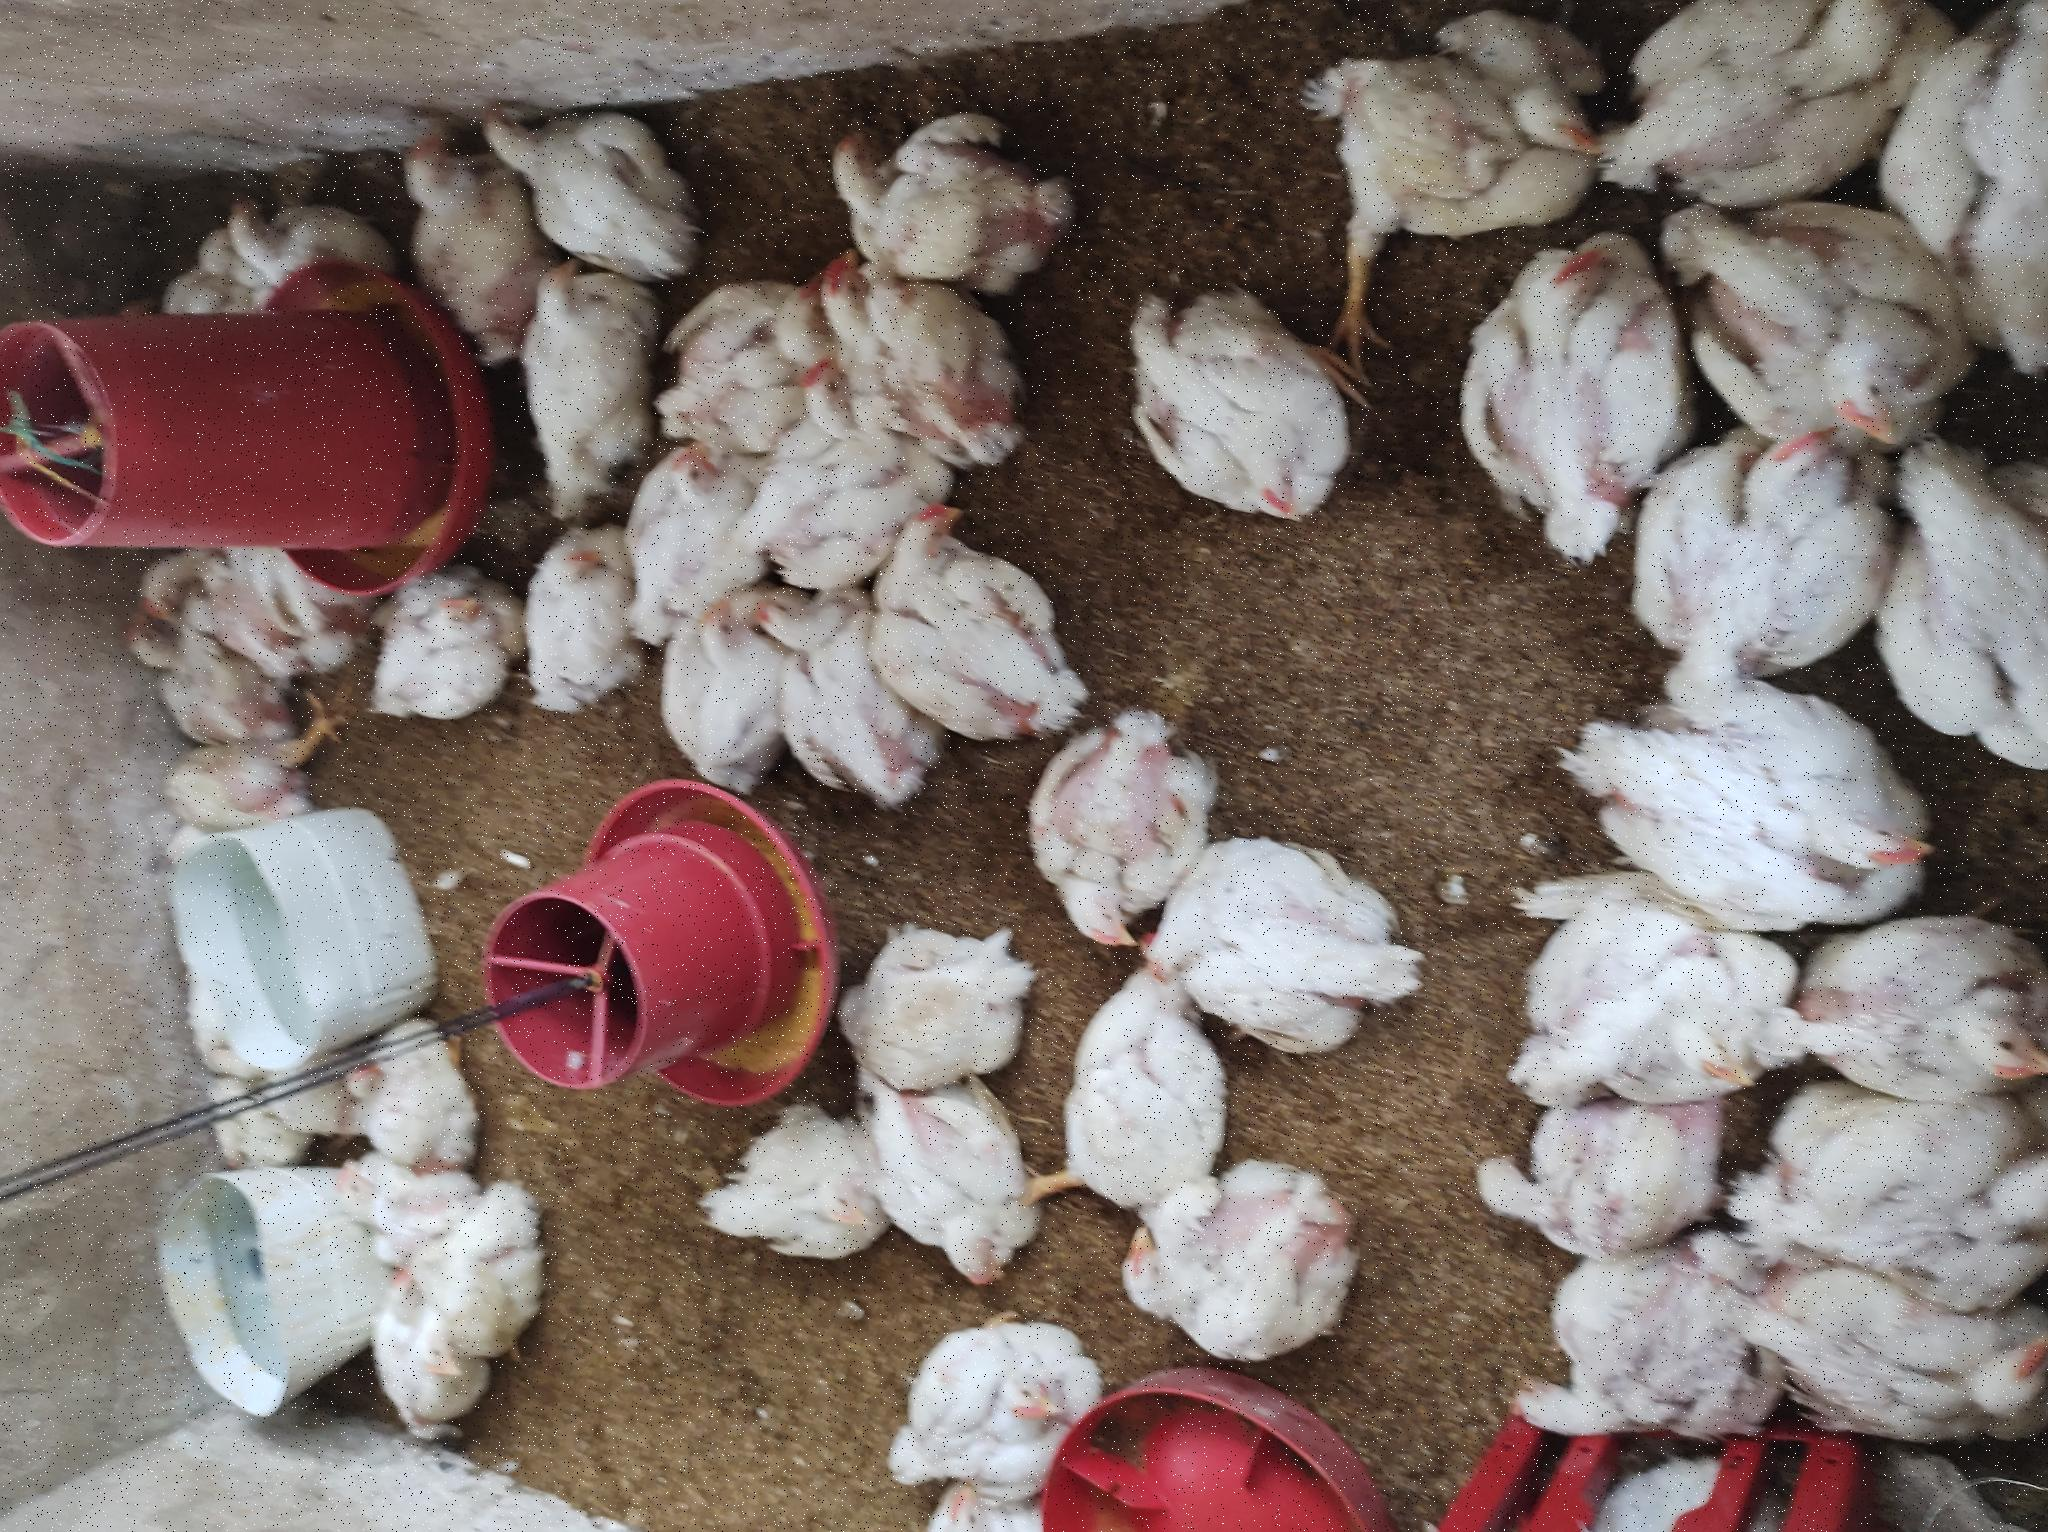Pollos: (1010, 1115, 1260, 1357), (1273, 1308, 1527, 1532), (487, 1147, 705, 1406), (1261, 817, 1433, 1091), (241, 855, 446, 1072), (1252, 476, 1450, 698), (793, 883, 1018, 1070), (315, 1070, 582, 1226), (589, 1027, 812, 1212), (27, 877, 219, 1093), (1107, 817, 1305, 1025), (169, 1122, 351, 1340), (1036, 517, 1273, 660), (755, 755, 957, 908), (1207, 381, 1416, 526), (447, 855, 621, 1028), (1088, 666, 1261, 829), (265, 690, 417, 866), (698, 137, 817, 349), (811, 369, 962, 534), (824, 521, 1017, 649), (904, 122, 1017, 325), (159, 422, 336, 550), (1239, 211, 1359, 393), (1010, 1456, 1298, 1532), (85, 346, 262, 457), (767, 663, 925, 769), (928, 632, 1084, 739), (389, 348, 504, 476), (335, 195, 452, 290), (273, 1474, 446, 1532), (830, 117, 927, 203), (299, 323, 373, 417), (1096, 792, 1171, 859)
